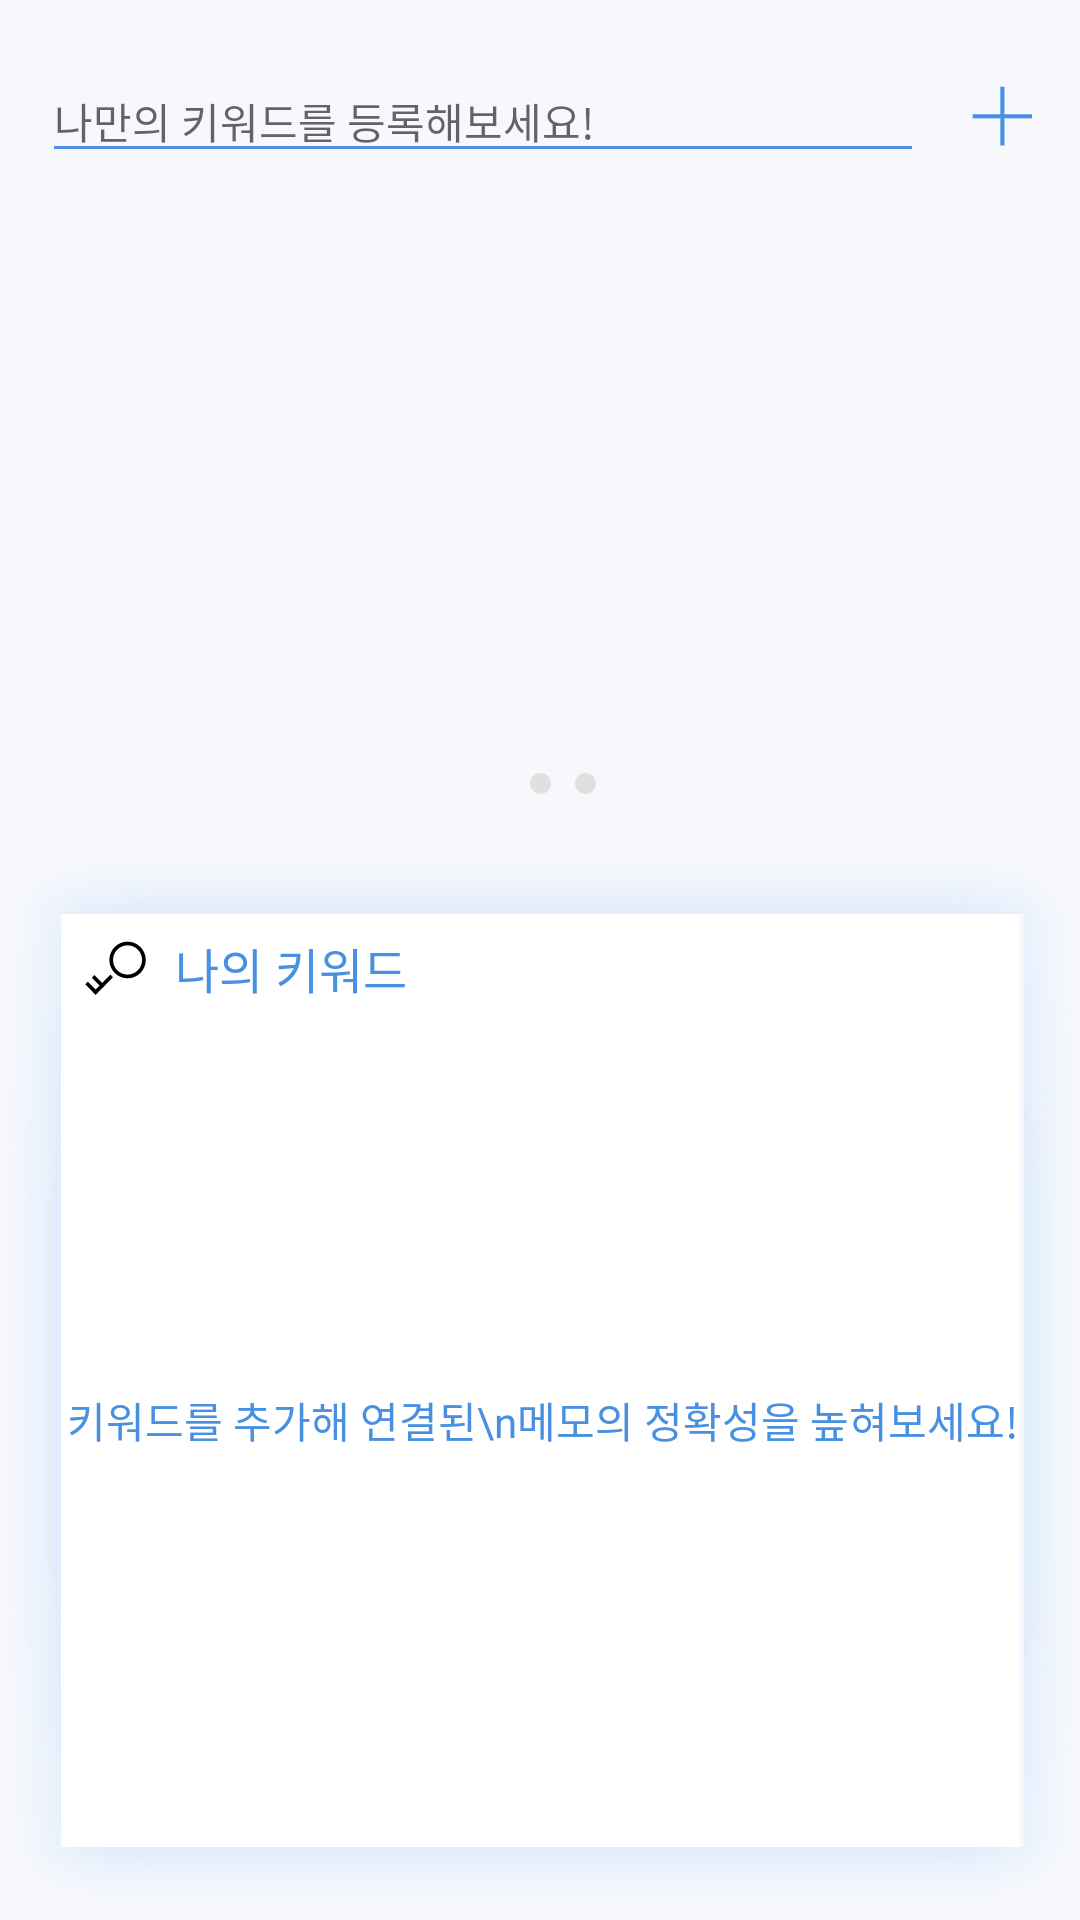

Where to tap for icons on this 1080*1920 app screen, as (x=x, y=y):
keword: (x=115, y=968)
plus: (x=1002, y=116)
